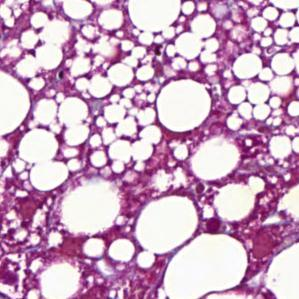steatosis: (138, 198, 200, 250), (157, 79, 211, 130)
